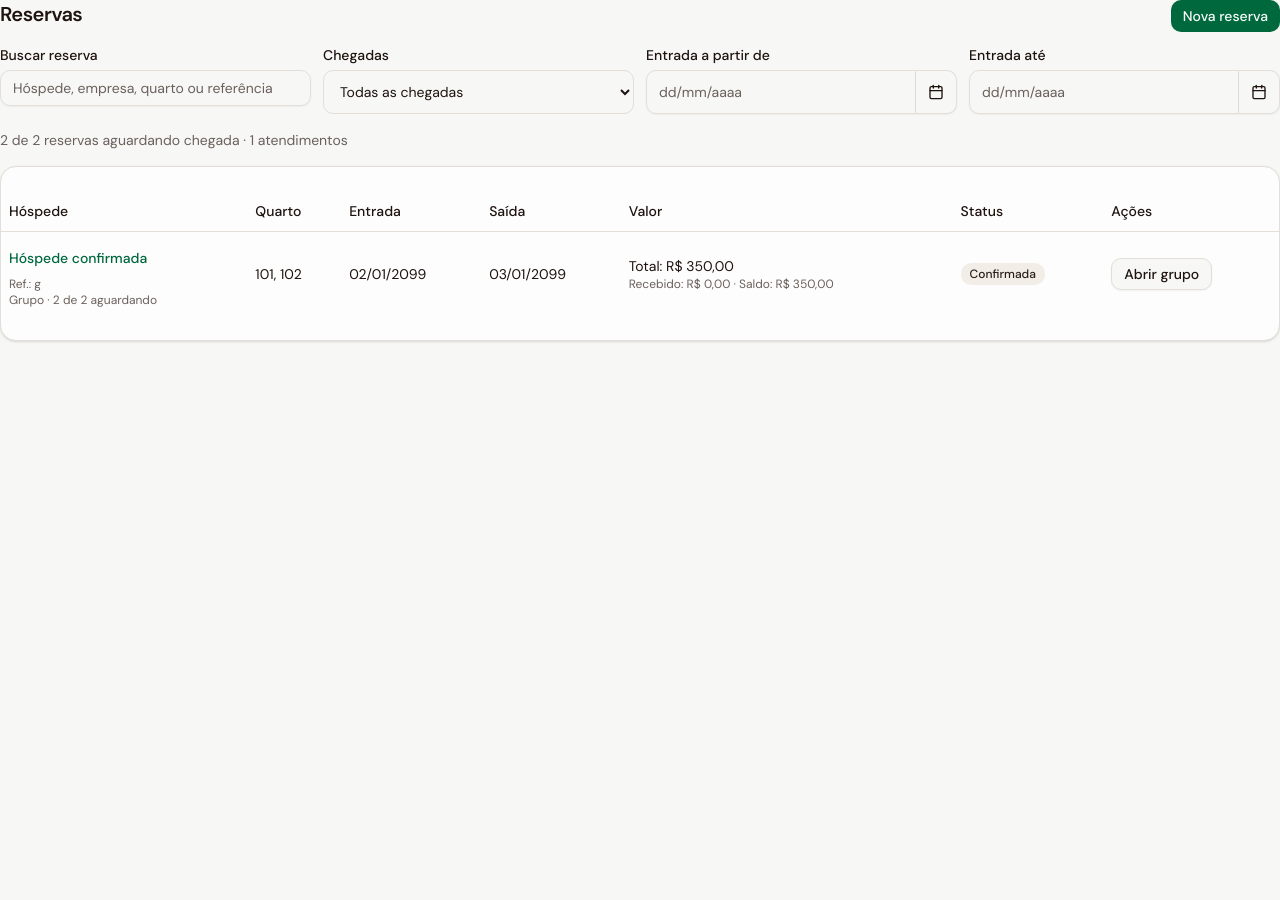
Test: Fila de reservas aguardando chegada › mostra quartos separados por vírgula em uma linha e abre ações por quarto
Expected: the number of rows is 2, x1=1 y1=191 x2=1279 y2=231; x1=1 y1=231 x2=1279 y2=316
Expected: the text "101, 102" is shown, x1=247 y1=231 x2=341 y2=316
Click the button with aria-label "Abrir grupo dos quartos 101, 102" at (1162, 274), box x1=1111 y1=258 x2=1212 y2=290
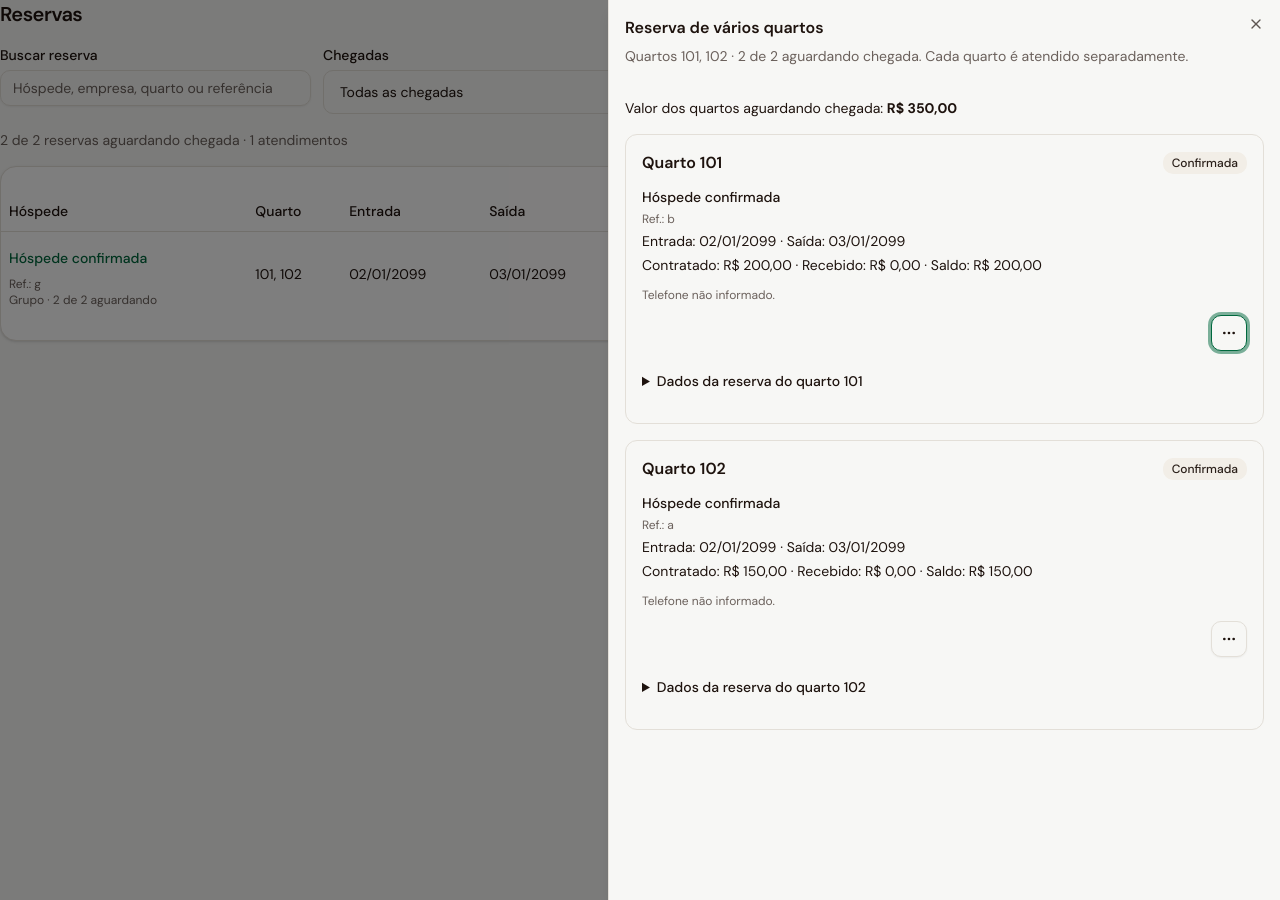
Expected: the button named "Mais ações da reserva b" is shown, x1=1211 y1=315 x2=1247 y2=351
Expected: the button named "Mais ações da reserva a" is shown, x1=1211 y1=621 x2=1247 y2=657
